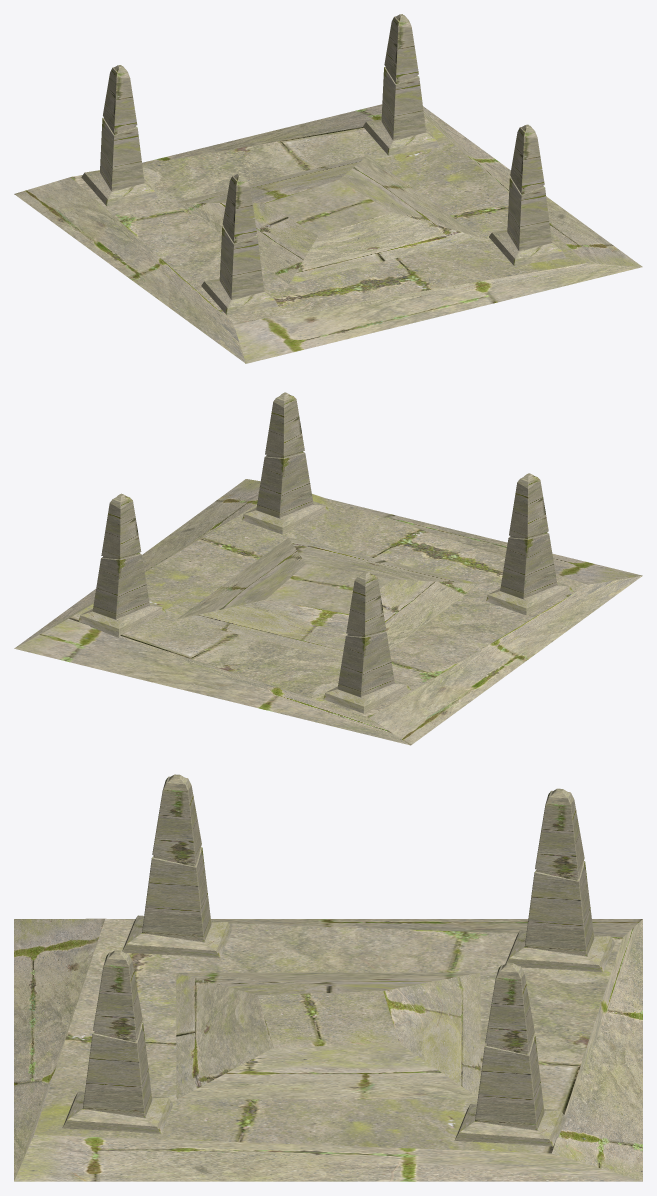
File: templo2.fbx
3 views of the same model, one above another, from view 1: azimuth 30°, elevation 25°; view 2: azimuth 150°, elevation 25°; view 3: azimuth 270°, elevation 25° (orthographic). The views are drawn at different scales.
Parts seen in each view (by area): view 1: Cube.002, Cube.006, Cube.008, Cube.009, Cube.010, Cube.011; view 2: Cube.002, Cube.006, Cube.008, Cube.011, Cube.009, Cube.010; view 3: Cube.002, Cube.006, Cube.008, Cube.009, Cube.010, Cube.011.
Part boxes in pixels (<box>): Cube.002: <box>14,104,642,363</box>; Cube.006: <box>177,156,479,284</box>; Cube.008: <box>363,14,439,155</box>; Cube.009: <box>489,124,565,265</box>; Cube.010: <box>201,173,278,314</box>; Cube.011: <box>81,65,158,206</box>; Cube.002: <box>14,479,642,745</box>; Cube.006: <box>177,537,479,659</box>; Cube.008: <box>78,493,165,637</box>; Cube.011: <box>323,571,410,713</box>; Cube.009: <box>242,392,329,534</box>; Cube.010: <box>486,473,573,615</box>; Cube.002: <box>14,918,642,1181</box>; Cube.006: <box>176,972,480,1099</box>; Cube.008: <box>454,962,566,1146</box>; Cube.009: <box>62,950,172,1133</box>; Cube.010: <box>122,774,232,958</box>; Cube.011: <box>505,788,614,972</box>.
Bounding box in the file's own units: 583 × 185 × 590.
Materials: 1 (1 with a texture image).
